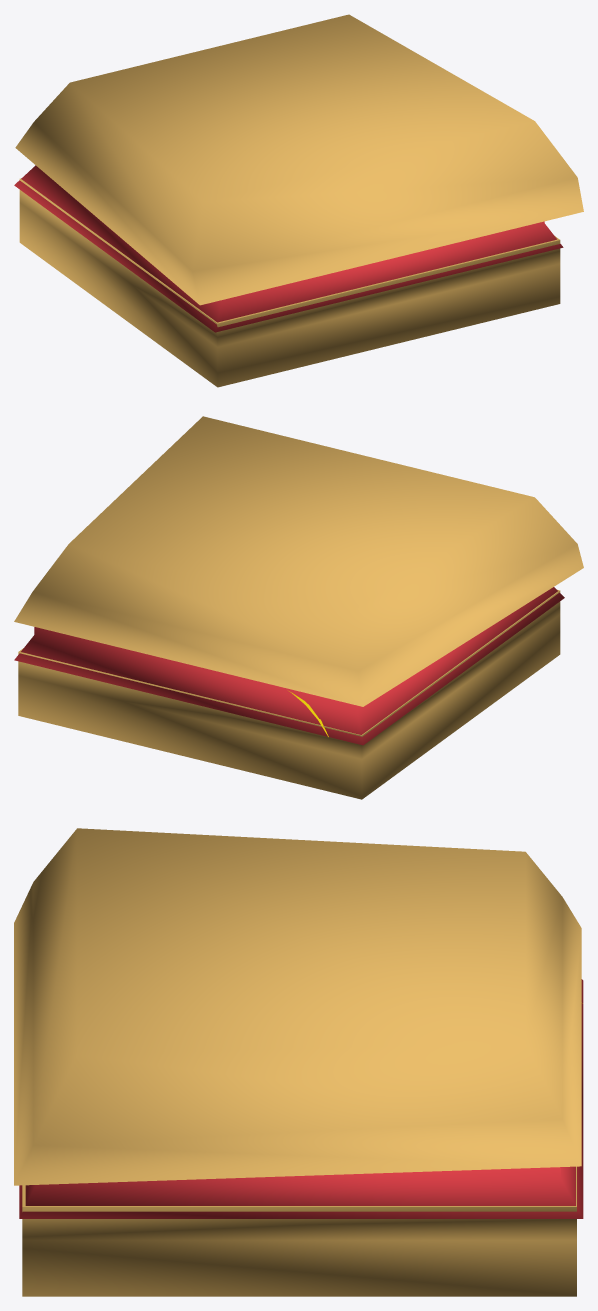
The model's file is ham.glb.
The picture shows the model from 3 angles, top to bottom: view 1: azimuth 30°, elevation 25°; view 2: azimuth 150°, elevation 25°; view 3: azimuth 270°, elevation 25°; orthographic projection. The views are drawn at different scales.
Parts seen in each view (by area): view 1: Cube.003, Cube.001, Cube.002; view 2: Cube.003, Cube.001, Cube.002; view 3: Cube.003, Cube.001, Cube.002.
Part boxes in pixels (<box>): Cube.003: <box>15,14,583,305</box>; Cube.001: <box>19,178,560,387</box>; Cube.002: <box>14,165,563,332</box>; Cube.003: <box>14,416,583,706</box>; Cube.001: <box>18,589,560,799</box>; Cube.002: <box>14,587,564,745</box>; Cube.003: <box>14,828,581,1185</box>; Cube.001: <box>22,1166,576,1296</box>; Cube.002: <box>19,979,583,1218</box>.
Bounding box in the file's own units: 11.1 × 4.67 × 10.15.
